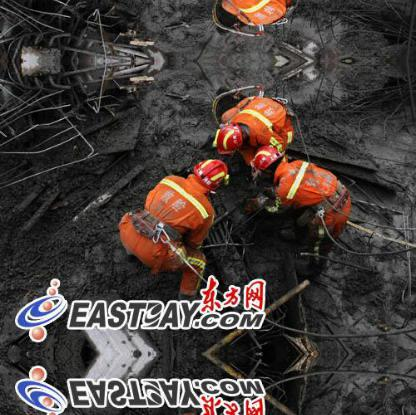helmet: (189, 157, 229, 190), (211, 122, 243, 152), (248, 145, 279, 172)
